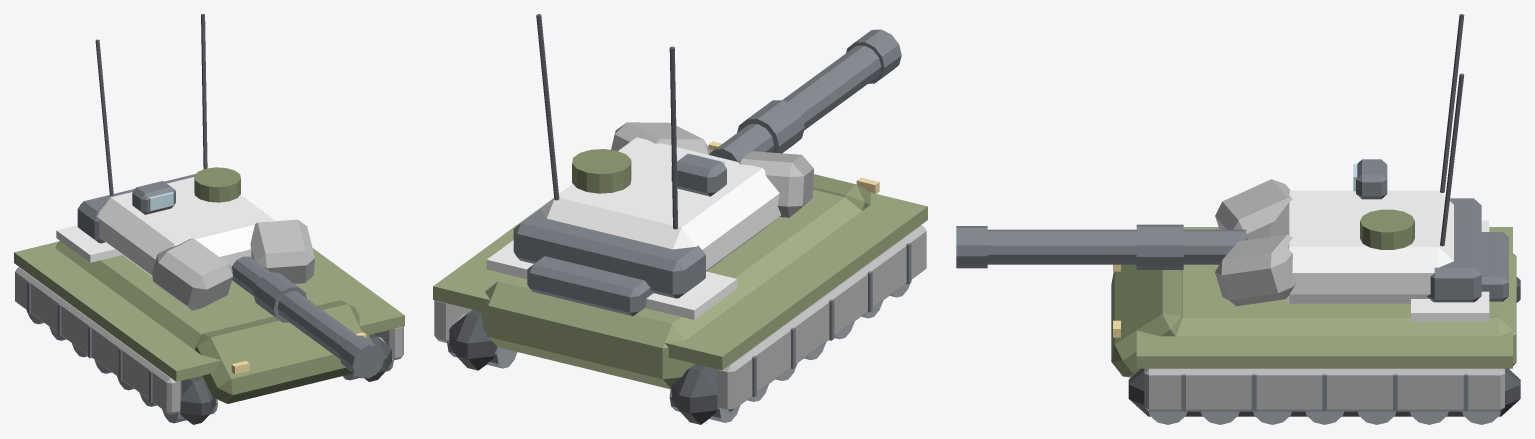
File: heavytank.glb
3 views of the same model, side by side, from view 1: azimuth 30°, elevation 25°; view 2: azimuth 150°, elevation 25°; view 3: azimuth 270°, elevation 25° (orthographic). The views are drawn at different scales.
Parts seen in each view (by area): view 1: main, turret; view 2: main, turret; view 3: main, turret.
Boxes of the visible parts, x1,y1,x2,y2 form: main: (14,225,404,424); turret: (77,14,384,378); main: (433,141,927,424); turret: (513,14,901,298); main: (1111,220,1520,424); turret: (956,14,1481,306).
Bounding box in the file's own units: 0.822 × 0.9006 × 1.44.
